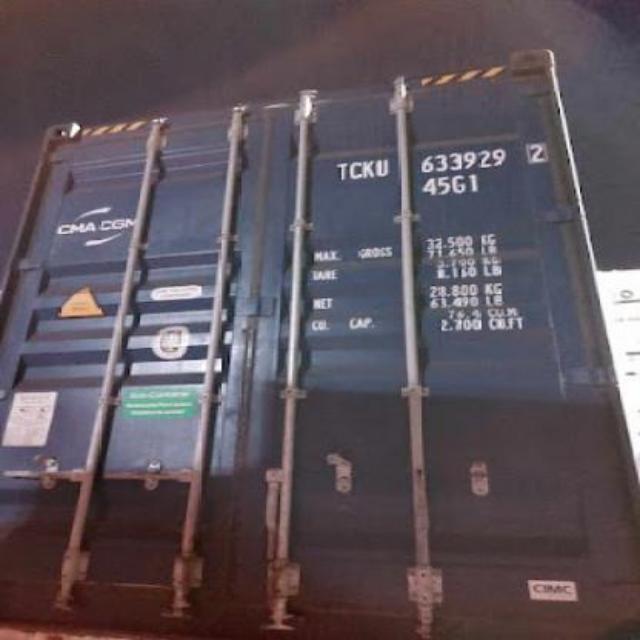2: (526, 142, 550, 166), (476, 144, 489, 170)
3: (434, 148, 450, 174), (450, 140, 460, 174)
6: (414, 148, 434, 176)
9: (462, 144, 476, 172), (494, 142, 508, 168)
C: (351, 148, 364, 184)
K: (362, 149, 374, 179)
T: (330, 156, 350, 182)
U: (376, 152, 389, 178)
